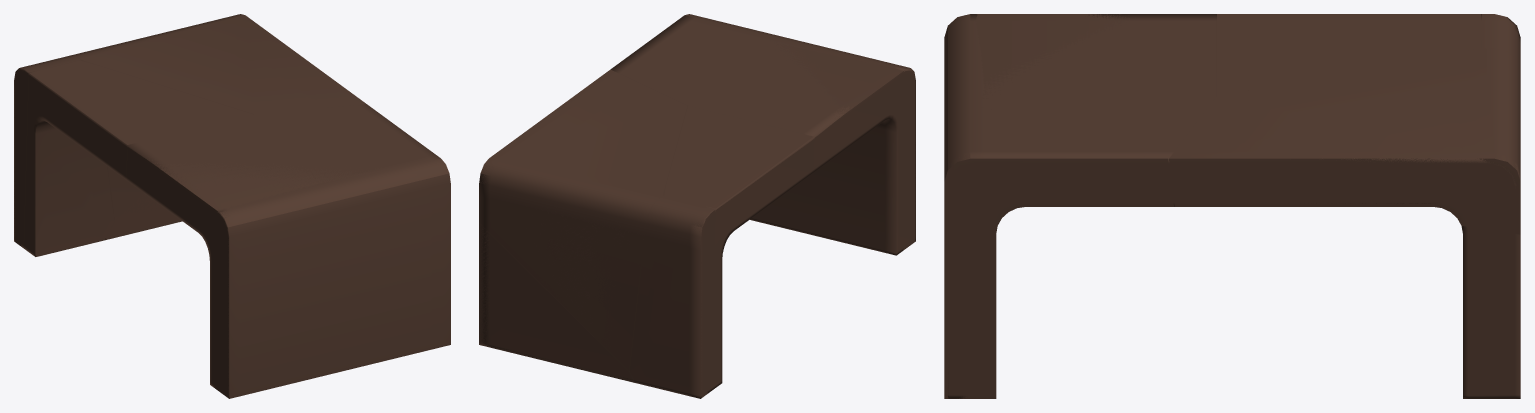
Rendered from Coffee table.fbx.
3 renders of one model, left to right at view 1: azimuth 30°, elevation 25°; view 2: azimuth 150°, elevation 25°; view 3: azimuth 270°, elevation 25°, orthographic. The views are drawn at different scales.
Parts seen in each view (by area): view 1: Coffee_table_cell.001, Coffee_table, Coffee_table_cell, Coffee_table_cell.004, Coffee_table_cell.002, Coffee_table_cell.003; view 2: Coffee_table, Coffee_table_cell.004, Coffee_table_cell, Coffee_table_cell.003, Coffee_table_cell.001, Coffee_table_cell.002; view 3: Coffee_table, Coffee_table_cell.004, Coffee_table_cell.001, Coffee_table_cell, Coffee_table_cell.002.
Boxes of the visible parts, x1,y1,x2,y2 form: Coffee_table_cell.001: (127, 147, 450, 398); Coffee_table: (14, 55, 443, 398); Coffee_table_cell: (28, 60, 252, 256); Coffee_table_cell.004: (73, 14, 366, 220); Coffee_table_cell.002: (14, 55, 80, 246); Coffee_table_cell.003: (105, 193, 182, 239); Coffee_table: (479, 15, 915, 398); Coffee_table_cell.004: (480, 69, 687, 360); Coffee_table_cell: (664, 106, 813, 226); Coffee_table_cell.003: (479, 224, 634, 382); Coffee_table_cell.001: (685, 14, 915, 250); Coffee_table_cell.002: (647, 196, 714, 397); Coffee_table: (947, 14, 1520, 398); Coffee_table_cell.004: (1169, 48, 1520, 234); Coffee_table_cell.001: (944, 14, 1173, 398); Coffee_table_cell: (1216, 14, 1480, 96); Coffee_table_cell.002: (1481, 14, 1515, 51).
Bounding box in the file's own units: 79.33 × 61.37 × 133.
